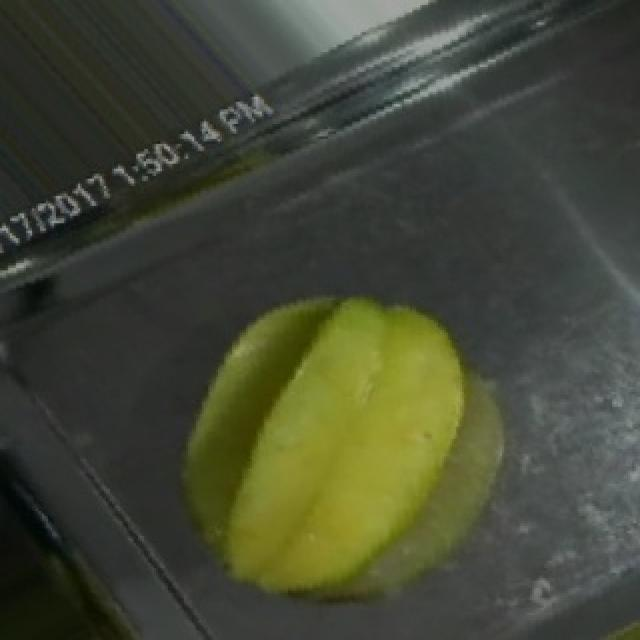fruit: (60, 230, 580, 640)
